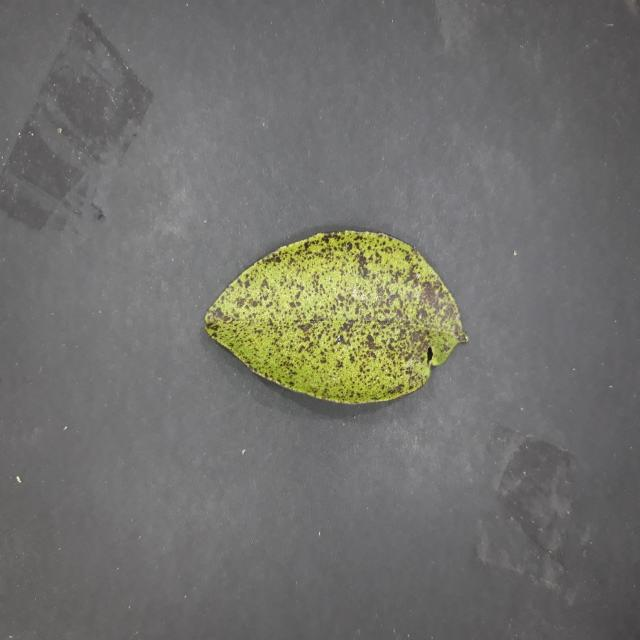greasy_spot: (205, 231, 467, 404)
